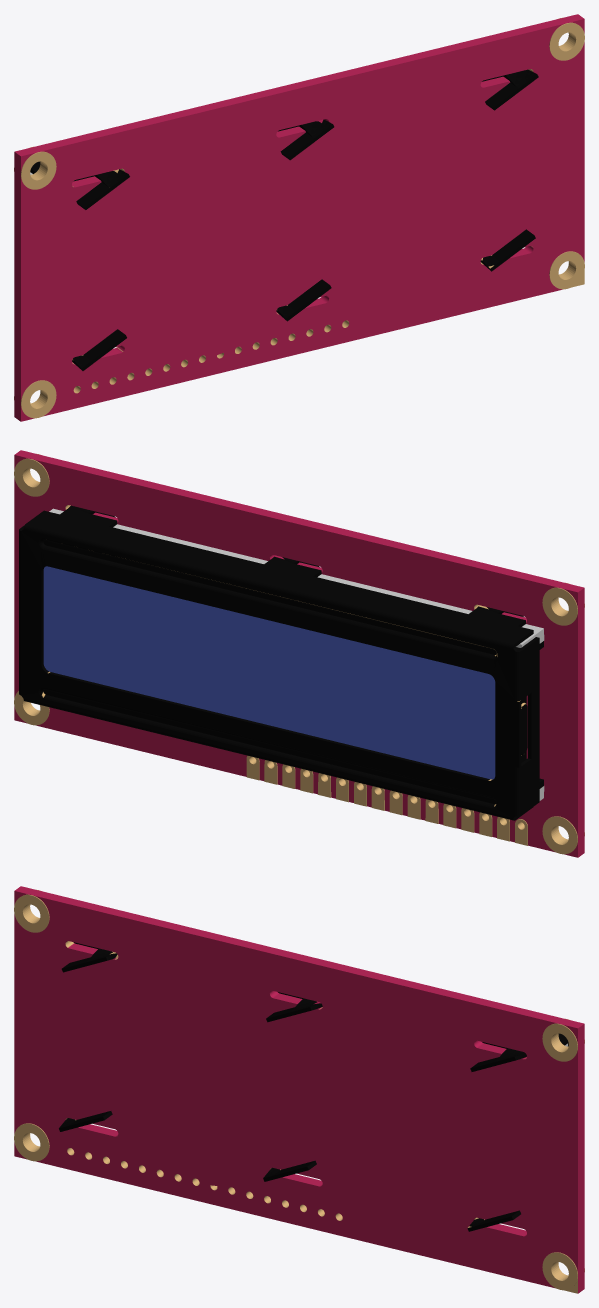
3 views of the same model, one above another, from view 1: azimuth 30°, elevation 25°; view 2: azimuth 150°, elevation 25°; view 3: azimuth 330°, elevation 25° (orthographic).
Parts seen in each view (by area): view 1: _602_LCD; view 2: _602_LCD; view 3: _602_LCD.
Boxes of the visible parts, x1,y1,x2,y2 form: _602_LCD: (14, 14, 584, 421); _602_LCD: (14, 450, 584, 857); _602_LCD: (14, 886, 584, 1293).
Size of the model in its own units: 80 by 10.6 by 36.
